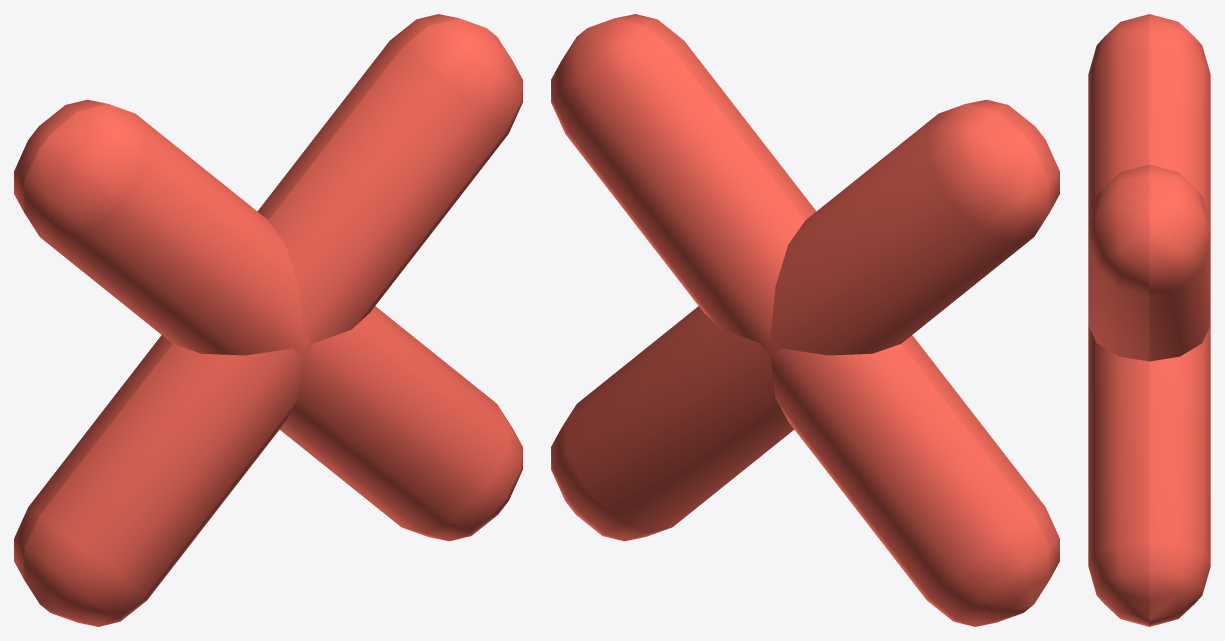
File: icon_nope.glb
3 renders of one model, left to right at view 1: azimuth 30°, elevation 25°; view 2: azimuth 150°, elevation 25°; view 3: azimuth 270°, elevation 25°, orthographic. The views are drawn at different scales.
Visible parts, largest first — view 1: icon_nope; view 2: icon_nope; view 3: icon_nope.
Boxes of the visible parts, x1=… form: icon_nope: x1=14, y1=14, x2=522, y2=626; icon_nope: x1=551, y1=14, x2=1059, y2=626; icon_nope: x1=1088, y1=14, x2=1210, y2=626.
Size of the model in its own units: 0.3247 by 0.3247 by 0.08.
